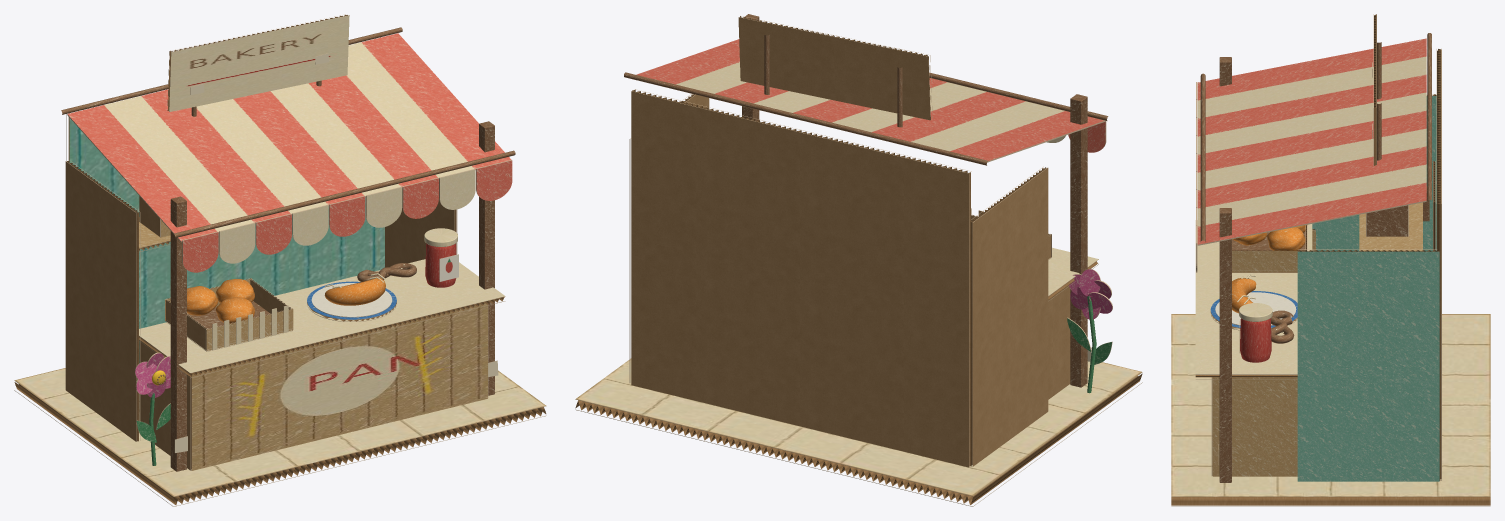
The model's file is 17_little_bakery.glb.
3 views of the same model, side by side, from view 1: azimuth 30°, elevation 25°; view 2: azimuth 150°, elevation 25°; view 3: azimuth 270°, elevation 25° (orthographic). The views are drawn at different scales.
Visible parts, largest first — view 1: artwork_17_little_bakery, cream, coral, kraft, brown, flute, edge, orange, sand, white, pink, red (+2 smaller); view 2: kraft, artwork_17_little_bakery, coral, brown, cream, flute, edge, pink, green; view 3: mint, cream, coral, artwork_17_little_bakery, sand, brown, flute, edge, orange, red, white.
Boxes of the visible parts, x1,y1,x2,y2 form: artwork_17_little_bakery: (15,15,546,496); cream: (104,42,505,372); coral: (67,33,512,272); kraft: (65,161,453,470); brown: (61,27,515,471); flute: (14,15,546,505); edge: (14,14,546,506); orange: (187,278,385,323); sand: (139,217,293,350); white: (311,283,392,316); pink: (135,353,170,397); red: (425,243,456,287); kraft: (631,17,1070,467); artwork_17_little_bakery: (575,358,1141,495); coral: (636,39,1105,160); brown: (624,14,1108,387); cream: (676,62,1098,295); flute: (575,16,1142,505); edge: (575,16,1142,506); pink: (1068,269,1112,319); green: (1067,296,1111,393); mint: (1297,96,1439,481); cream: (1195,56,1426,374); coral: (1197,38,1426,244); artwork_17_little_bakery: (1171,314,1490,496); sand: (1212,202,1422,476); brown: (1200,33,1431,482); flute: (1171,14,1490,505); edge: (1171,14,1490,506); orange: (1232,225,1306,313); red: (1240,318,1271,362); white: (1215,292,1296,324).
Size of the model in its own units: 0.4658 by 0.4208 by 0.34.
18 materials, 16 textured.
